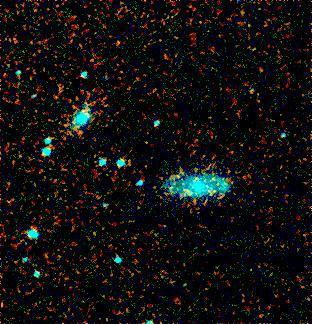star: (170, 175, 200, 205)
